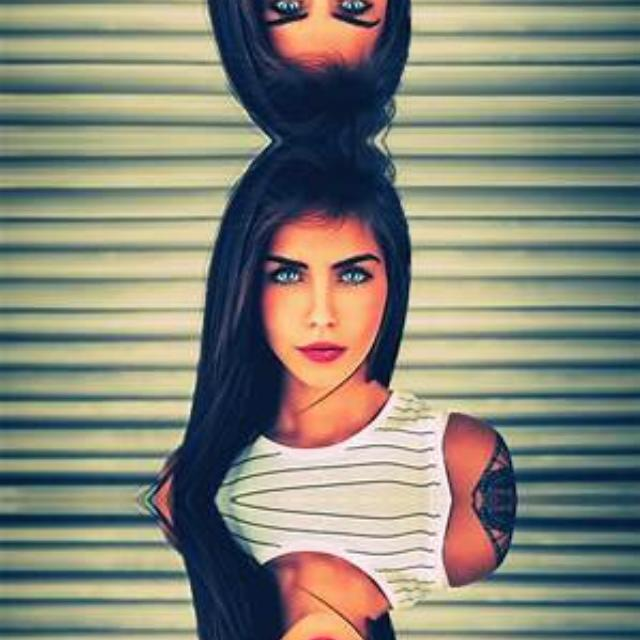person: (138, 140, 510, 500), (138, 499, 509, 640), (138, 0, 509, 140)
